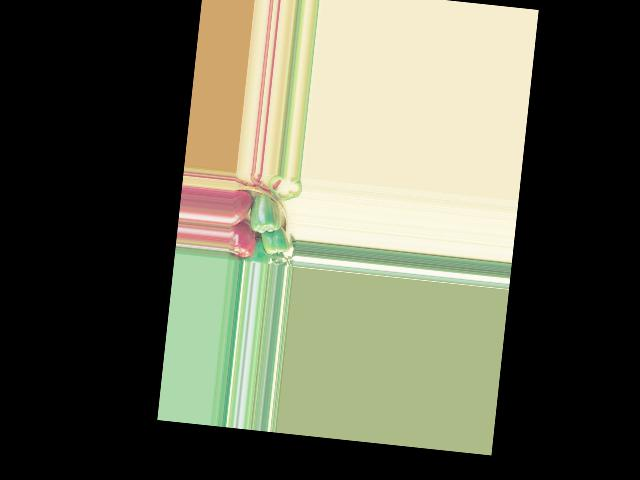bell_pepper: (231, 189, 251, 228)
